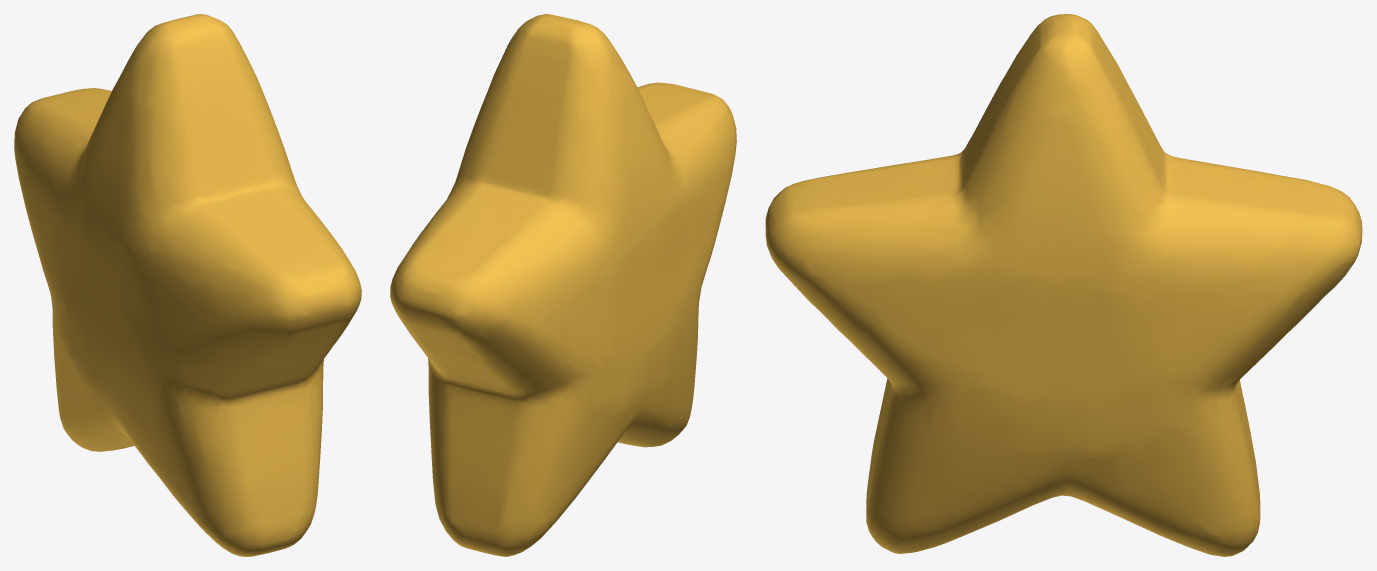
3 views of the same model, side by side, from view 1: azimuth 30°, elevation 25°; view 2: azimuth 150°, elevation 25°; view 3: azimuth 270°, elevation 25° (orthographic). The views are drawn at different scales.
Parts seen in each view (by area): view 1: tripo_node_0c2ae48b; view 2: tripo_node_0c2ae48b; view 3: tripo_node_0c2ae48b.
Boxes of the visible parts, bbox=[...] form: tripo_node_0c2ae48b: bbox=[14, 14, 361, 556]; tripo_node_0c2ae48b: bbox=[390, 14, 736, 556]; tripo_node_0c2ae48b: bbox=[765, 14, 1362, 556].
Bounding box in the file's own units: 0.3598 × 0.9643 × 1.
Materials: 1 (1 with a texture image).
